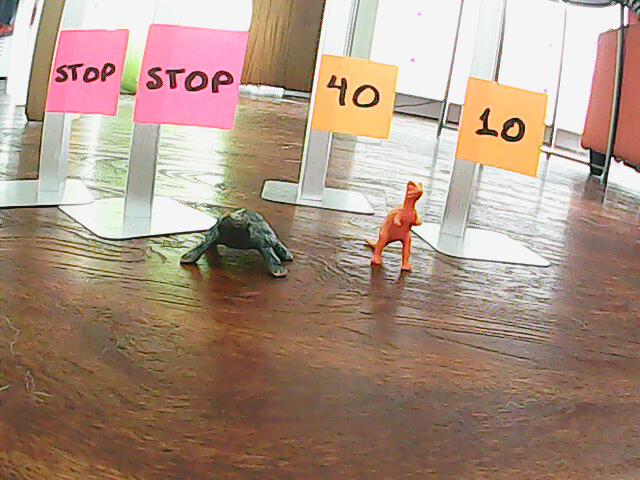10: (461, 92, 538, 161)
40: (320, 65, 390, 131)
dinosaur: (359, 177, 427, 281)
stop: (145, 36, 237, 111), (49, 38, 120, 111)
turtle: (171, 207, 298, 281)
